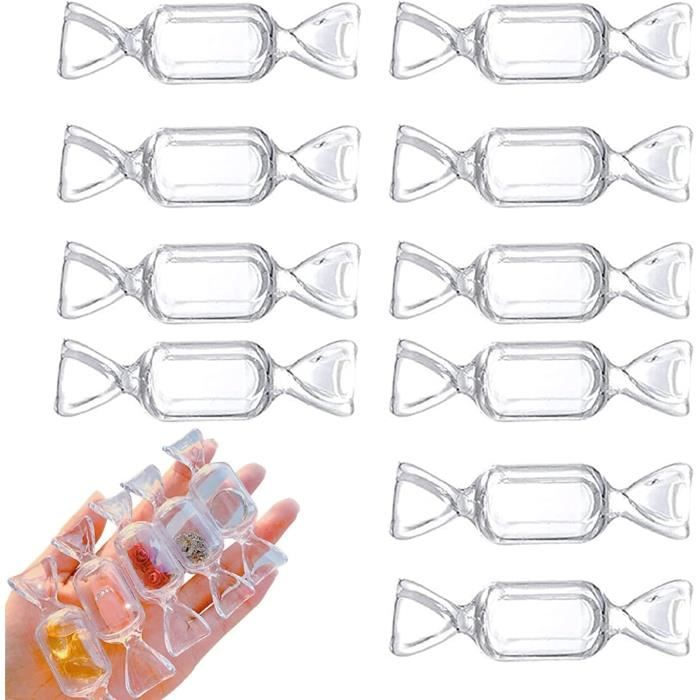Chaise: (411, 198, 556, 408)
